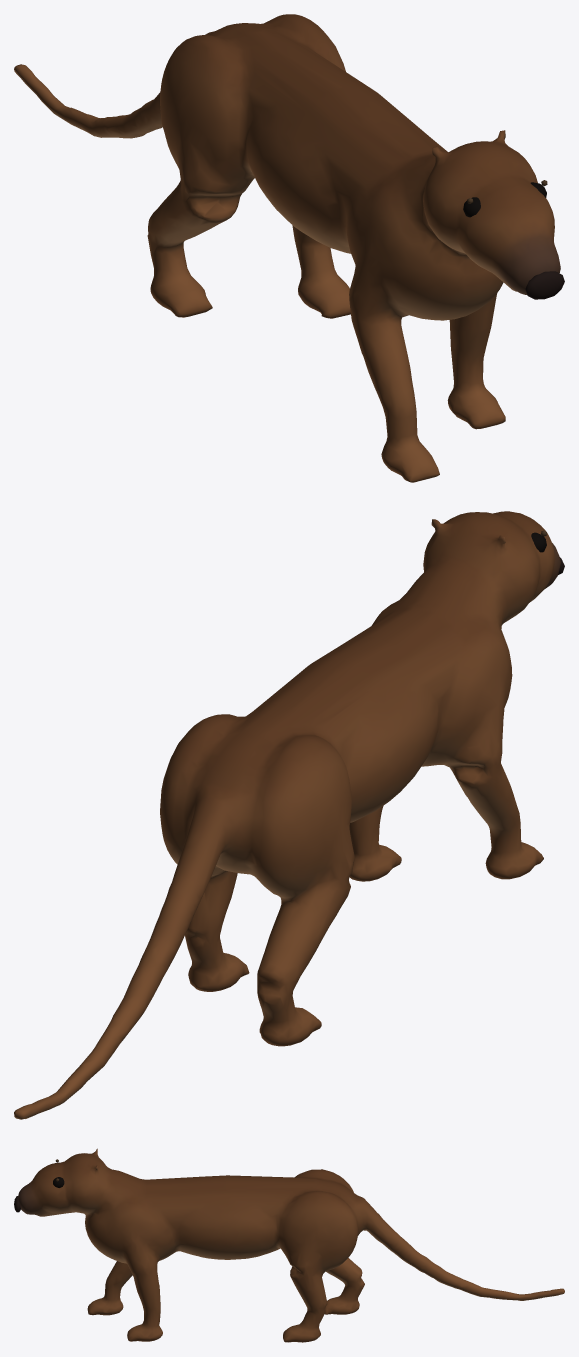
The model's file is AegyptopithecusZeuxis.fbx.
3 renders of one model, top to bottom at view 1: azimuth 30°, elevation 25°; view 2: azimuth 150°, elevation 25°; view 3: azimuth 270°, elevation 25°, orthographic. The views are drawn at different scales.
Visible parts, largest first — view 1: AegyptopithecusZeuxis; view 2: AegyptopithecusZeuxis; view 3: AegyptopithecusZeuxis.
Boxes of the visible parts, x1=… form: AegyptopithecusZeuxis: x1=14, y1=14, x2=564, y2=482; AegyptopithecusZeuxis: x1=14, y1=511, x2=564, y2=1119; AegyptopithecusZeuxis: x1=14, y1=1148, x2=564, y2=1342.
Bounding box in the file's own units: 0.3042 × 0.5748 × 1.68.
